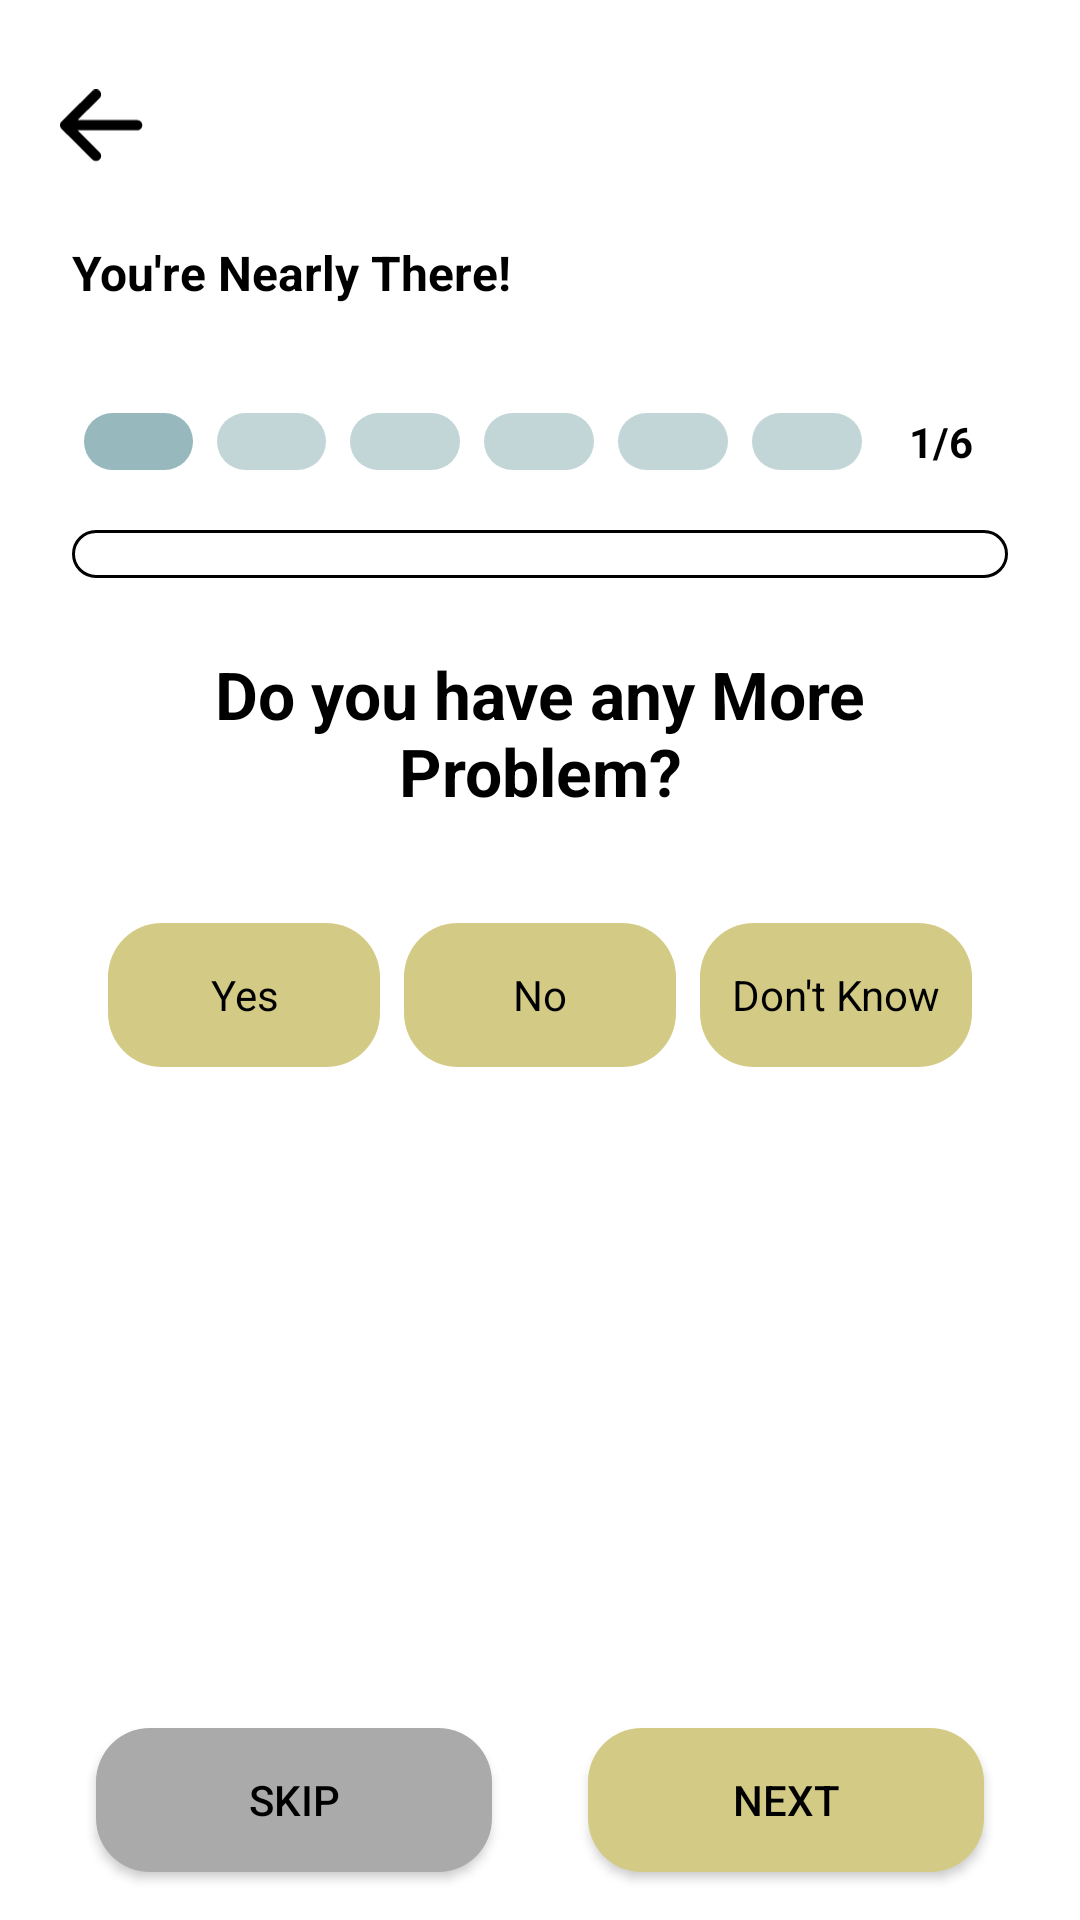

Where to tap for icons on this 1080 × 1920 app screen, as (x=x, y=y):
back: (x=101, y=125)
